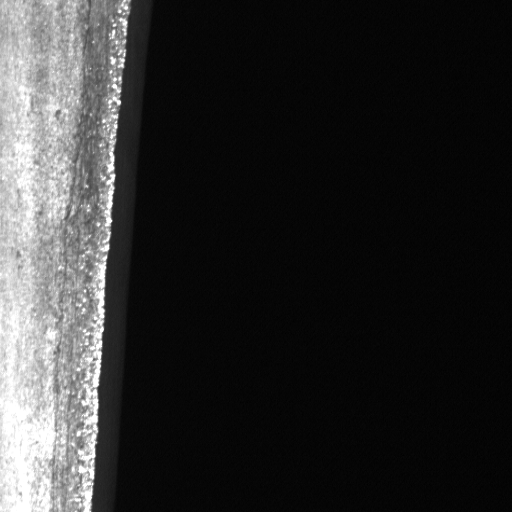bianjiaoliewen: (56, 1, 98, 458)
